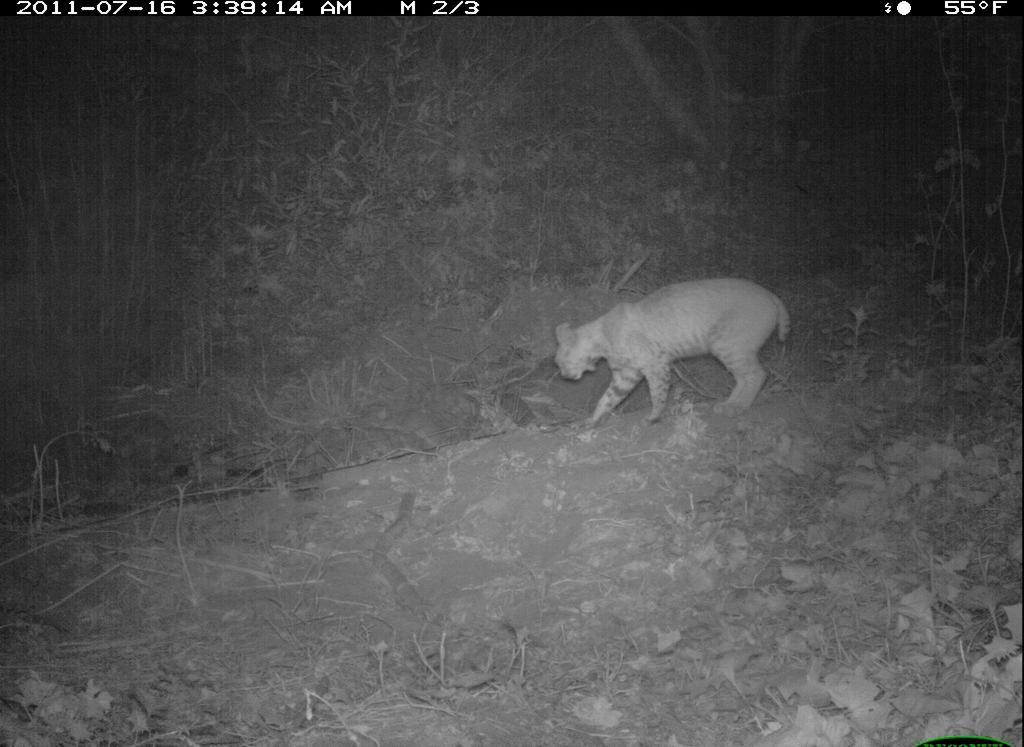bobcat: (537, 260, 811, 431)
